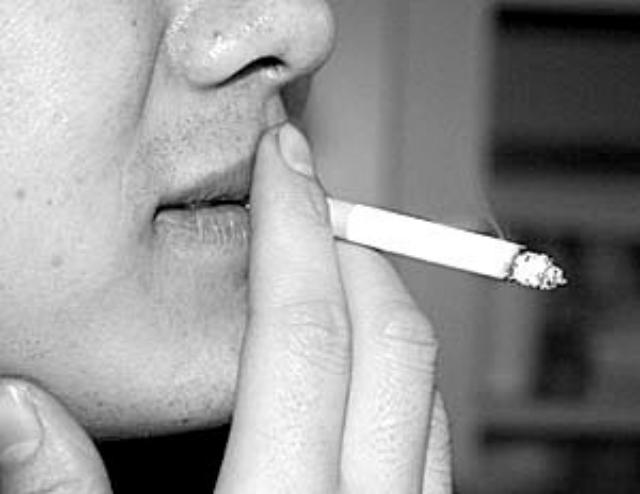Smoking: (250, 186, 568, 292)
